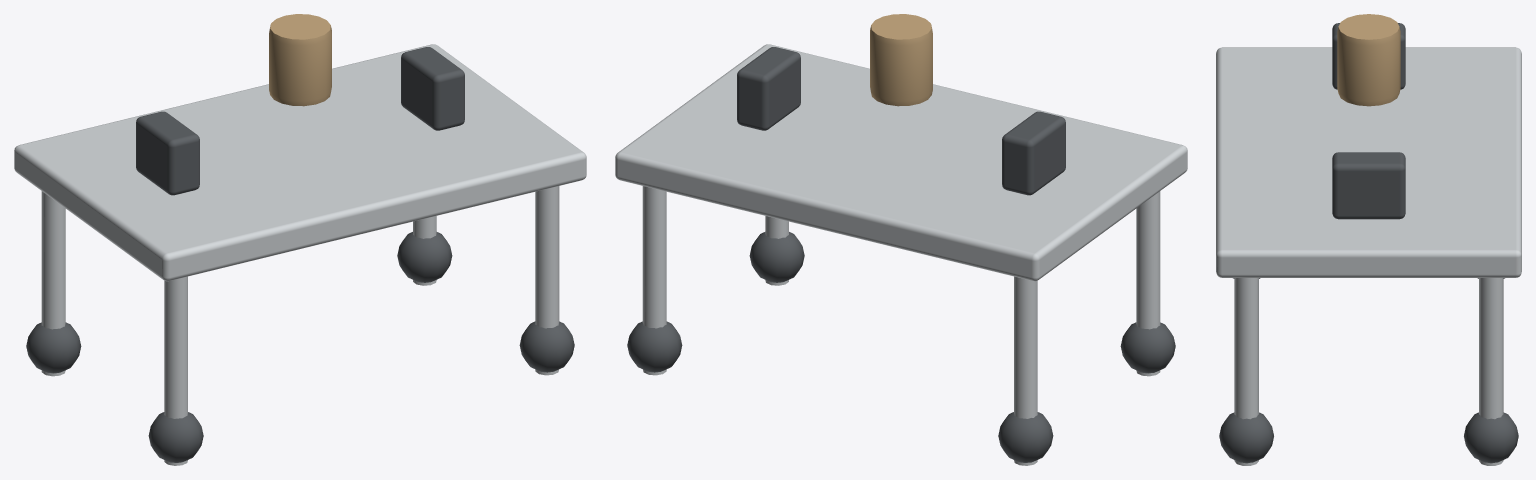
File: geotechnical-soil-testing-laboratory-specimen-cradle-t-7a182706__39080.glb
3 views of the same model, side by side, from view 1: azimuth 30°, elevation 25°; view 2: azimuth 150°, elevation 25°; view 3: azimuth 270°, elevation 25° (orthographic).
Visible parts, largest first — view 1: specimen-cradle-trolley; view 2: specimen-cradle-trolley; view 3: specimen-cradle-trolley.
Part boxes in pixels (left/top/right/bottom): specimen-cradle-trolley: left=14, top=14, right=586, bottom=465; specimen-cradle-trolley: left=615, top=14, right=1187, bottom=465; specimen-cradle-trolley: left=1216, top=14, right=1521, bottom=465.
Bounding box in the file's own units: 0.8 × 0.62 × 0.5.
